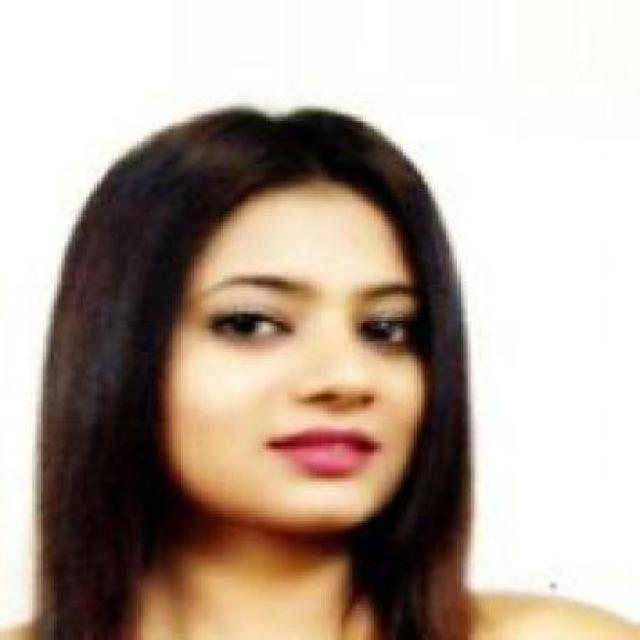closed-mouth: (270, 421, 384, 474)
